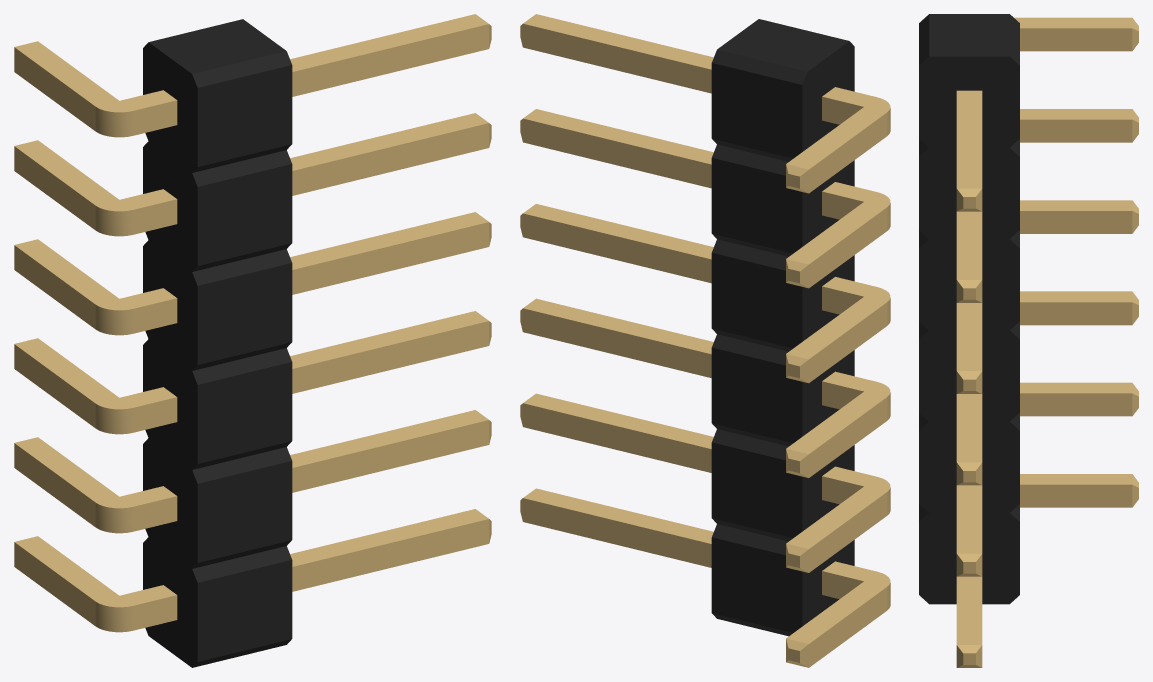
File: header-1x06-bent.glb
3 views of the same model, side by side, from view 1: azimuth 30°, elevation 25°; view 2: azimuth 150°, elevation 25°; view 3: azimuth 270°, elevation 25° (orthographic). The views are drawn at different scales.
Visible parts, largest first — view 1: PIN-02 (×13), IC-BODY-EPOXY-04; view 2: PIN-02 (×7), IC-BODY-EPOXY-04; view 3: IC-BODY-EPOXY-04, PIN-02 (×7).
Part boxes in pixels (left/top/right/bottom): PIN-02 (×13): left=14, top=14, right=491, bottom=632; IC-BODY-EPOXY-04: left=143, top=19, right=292, bottom=667; PIN-02 (×7): left=520, top=14, right=890, bottom=667; IC-BODY-EPOXY-04: left=711, top=19, right=854, bottom=636; IC-BODY-EPOXY-04: left=919, top=14, right=1019, bottom=604; PIN-02 (×7): left=956, top=17, right=1138, bottom=667.
Size of the model in its own units: 10.36 by 15.24 by 5.54.
